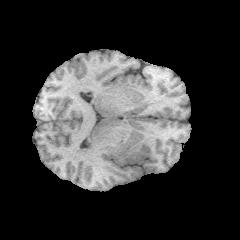glioma: (107, 140, 147, 180)
